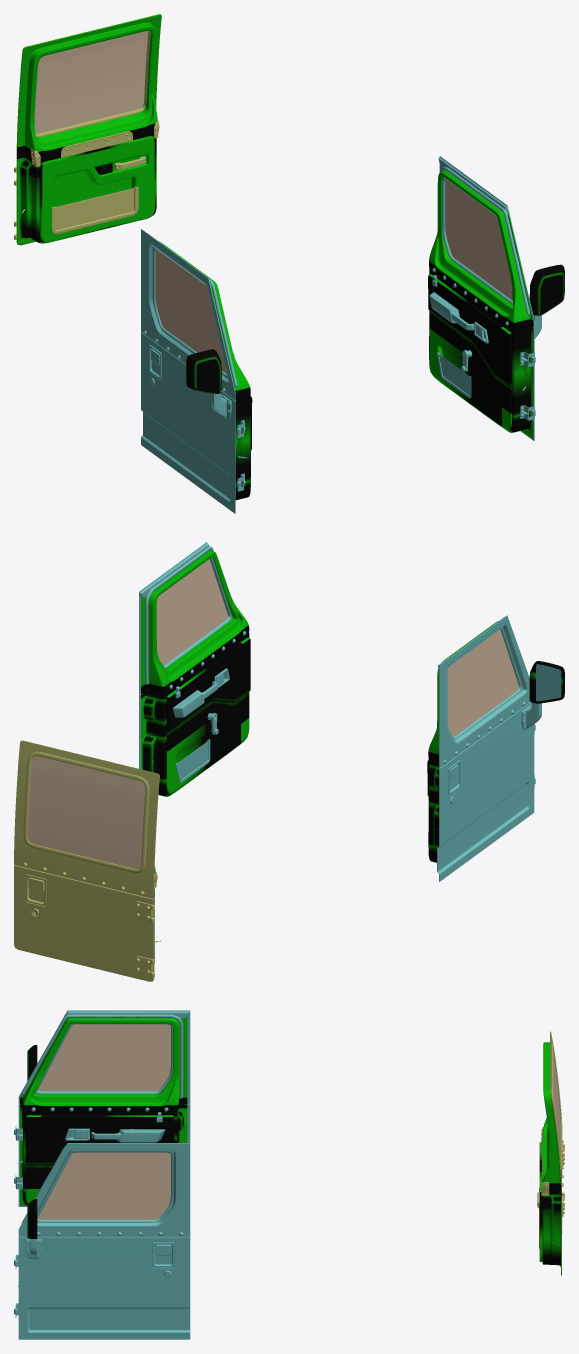
The model's file is FHXY_02BX_A8_CheMen_MD_exp.fbx.
3 views of the same model, one above another, from view 1: azimuth 30°, elevation 25°; view 2: azimuth 150°, elevation 25°; view 3: azimuth 270°, elevation 25° (orthographic). The views are drawn at different scales.
Parts seen in each view (by area): view 1: FHXY_02BX_A8_CheMen_MD_B, FHXY_02BX_A8_CheMen_MD_L, FHXY_02BX_A8_CheMen_MD_L_3, FHXY_02BX_A8_CheMen_MD_L_Glass (×2), FHXY_02BX_A8_CheMen_MD_B_Glass, FHXY_02BX_A8_CheMen_MD_L_16, FHXY_02BX_A8_CheMen_MD_L_15; view 2: FHXY_02BX_A8_CheMen_MD_B, FHXY_02BX_A8_CheMen_MD_L, FHXY_02BX_A8_CheMen_MD_L_3, FHXY_02BX_A8_CheMen_MD_B_Glass, FHXY_02BX_A8_CheMen_MD_L_Glass (×2), FHXY_02BX_A8_CheMen_MD_L_16, FHXY_02BX_A8_CheMen_MD_L_13, FHXY_02BX_A8_CheMen_MD_L_2, FHXY_02BX_A8_CheMen_MD_L_15; view 3: FHXY_02BX_A8_CheMen_MD_L, FHXY_02BX_A8_CheMen_MD_L_Glass (×2), FHXY_02BX_A8_CheMen_MD_L_16, FHXY_02BX_A8_CheMen_MD_L_11, FHXY_02BX_A8_CheMen_MD_B, FHXY_02BX_A8_CheMen_MD_L_19, FHXY_02BX_A8_CheMen_MD_L_3, FHXY_02BX_A8_CheMen_MD_L_2, FHXY_02BX_A8_CheMen_MD_L_17, FHXY_02BX_A8_CheMen_MD_L_20.
Boxes of the visible parts, x1,y1,x2,y2 form: FHXY_02BX_A8_CheMen_MD_B: (14,14,161,245); FHXY_02BX_A8_CheMen_MD_L: (428,156,564,440); FHXY_02BX_A8_CheMen_MD_L_3: (141,229,235,513); FHXY_02BX_A8_CheMen_MD_L_Glass (×2): (155,171,512,373); FHXY_02BX_A8_CheMen_MD_B_Glass: (34,31,147,133); FHXY_02BX_A8_CheMen_MD_L_16: (159,241,250,500); FHXY_02BX_A8_CheMen_MD_L_15: (186,349,221,393); FHXY_02BX_A8_CheMen_MD_B: (14,740,160,981); FHXY_02BX_A8_CheMen_MD_L: (139,542,250,796); FHXY_02BX_A8_CheMen_MD_L_3: (437,615,534,881); FHXY_02BX_A8_CheMen_MD_B_Glass: (27,756,145,868); FHXY_02BX_A8_CheMen_MD_L_Glass (×2): (151,559,519,736); FHXY_02BX_A8_CheMen_MD_L_16: (428,621,498,862); FHXY_02BX_A8_CheMen_MD_L_13: (536,664,561,701); FHXY_02BX_A8_CheMen_MD_L_2: (448,627,523,739); FHXY_02BX_A8_CheMen_MD_L_15: (529,661,564,703); FHXY_02BX_A8_CheMen_MD_L: (14,1143,190,1339); FHXY_02BX_A8_CheMen_MD_L_Glass (×2): (38,1019,175,1219); FHXY_02BX_A8_CheMen_MD_L_16: (20,1014,187,1205); FHXY_02BX_A8_CheMen_MD_L_11: (25,1115,174,1203); FHXY_02BX_A8_CheMen_MD_B: (537,1031,564,1275); FHXY_02BX_A8_CheMen_MD_L_19: (21,1014,183,1098); FHXY_02BX_A8_CheMen_MD_L_3: (18,1010,190,1206); FHXY_02BX_A8_CheMen_MD_L_2: (35,1023,172,1093); FHXY_02BX_A8_CheMen_MD_L_17: (91,1129,165,1142); FHXY_02BX_A8_CheMen_MD_L_20: (65,1011,189,1018).
Bounding box in the file's own units: 230 × 136 × 320.
